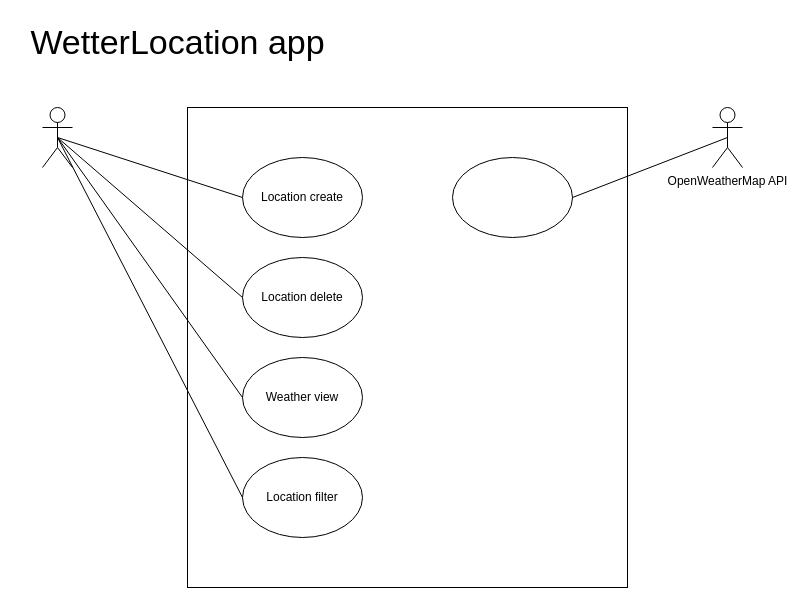
Image size: 804x605. Some labels were removed from this diagram. The centre of each missing label's shape, as x and y in pixels:
"Actor" belongs at point (57, 137).
"Weater data get" belongs at point (512, 197).
